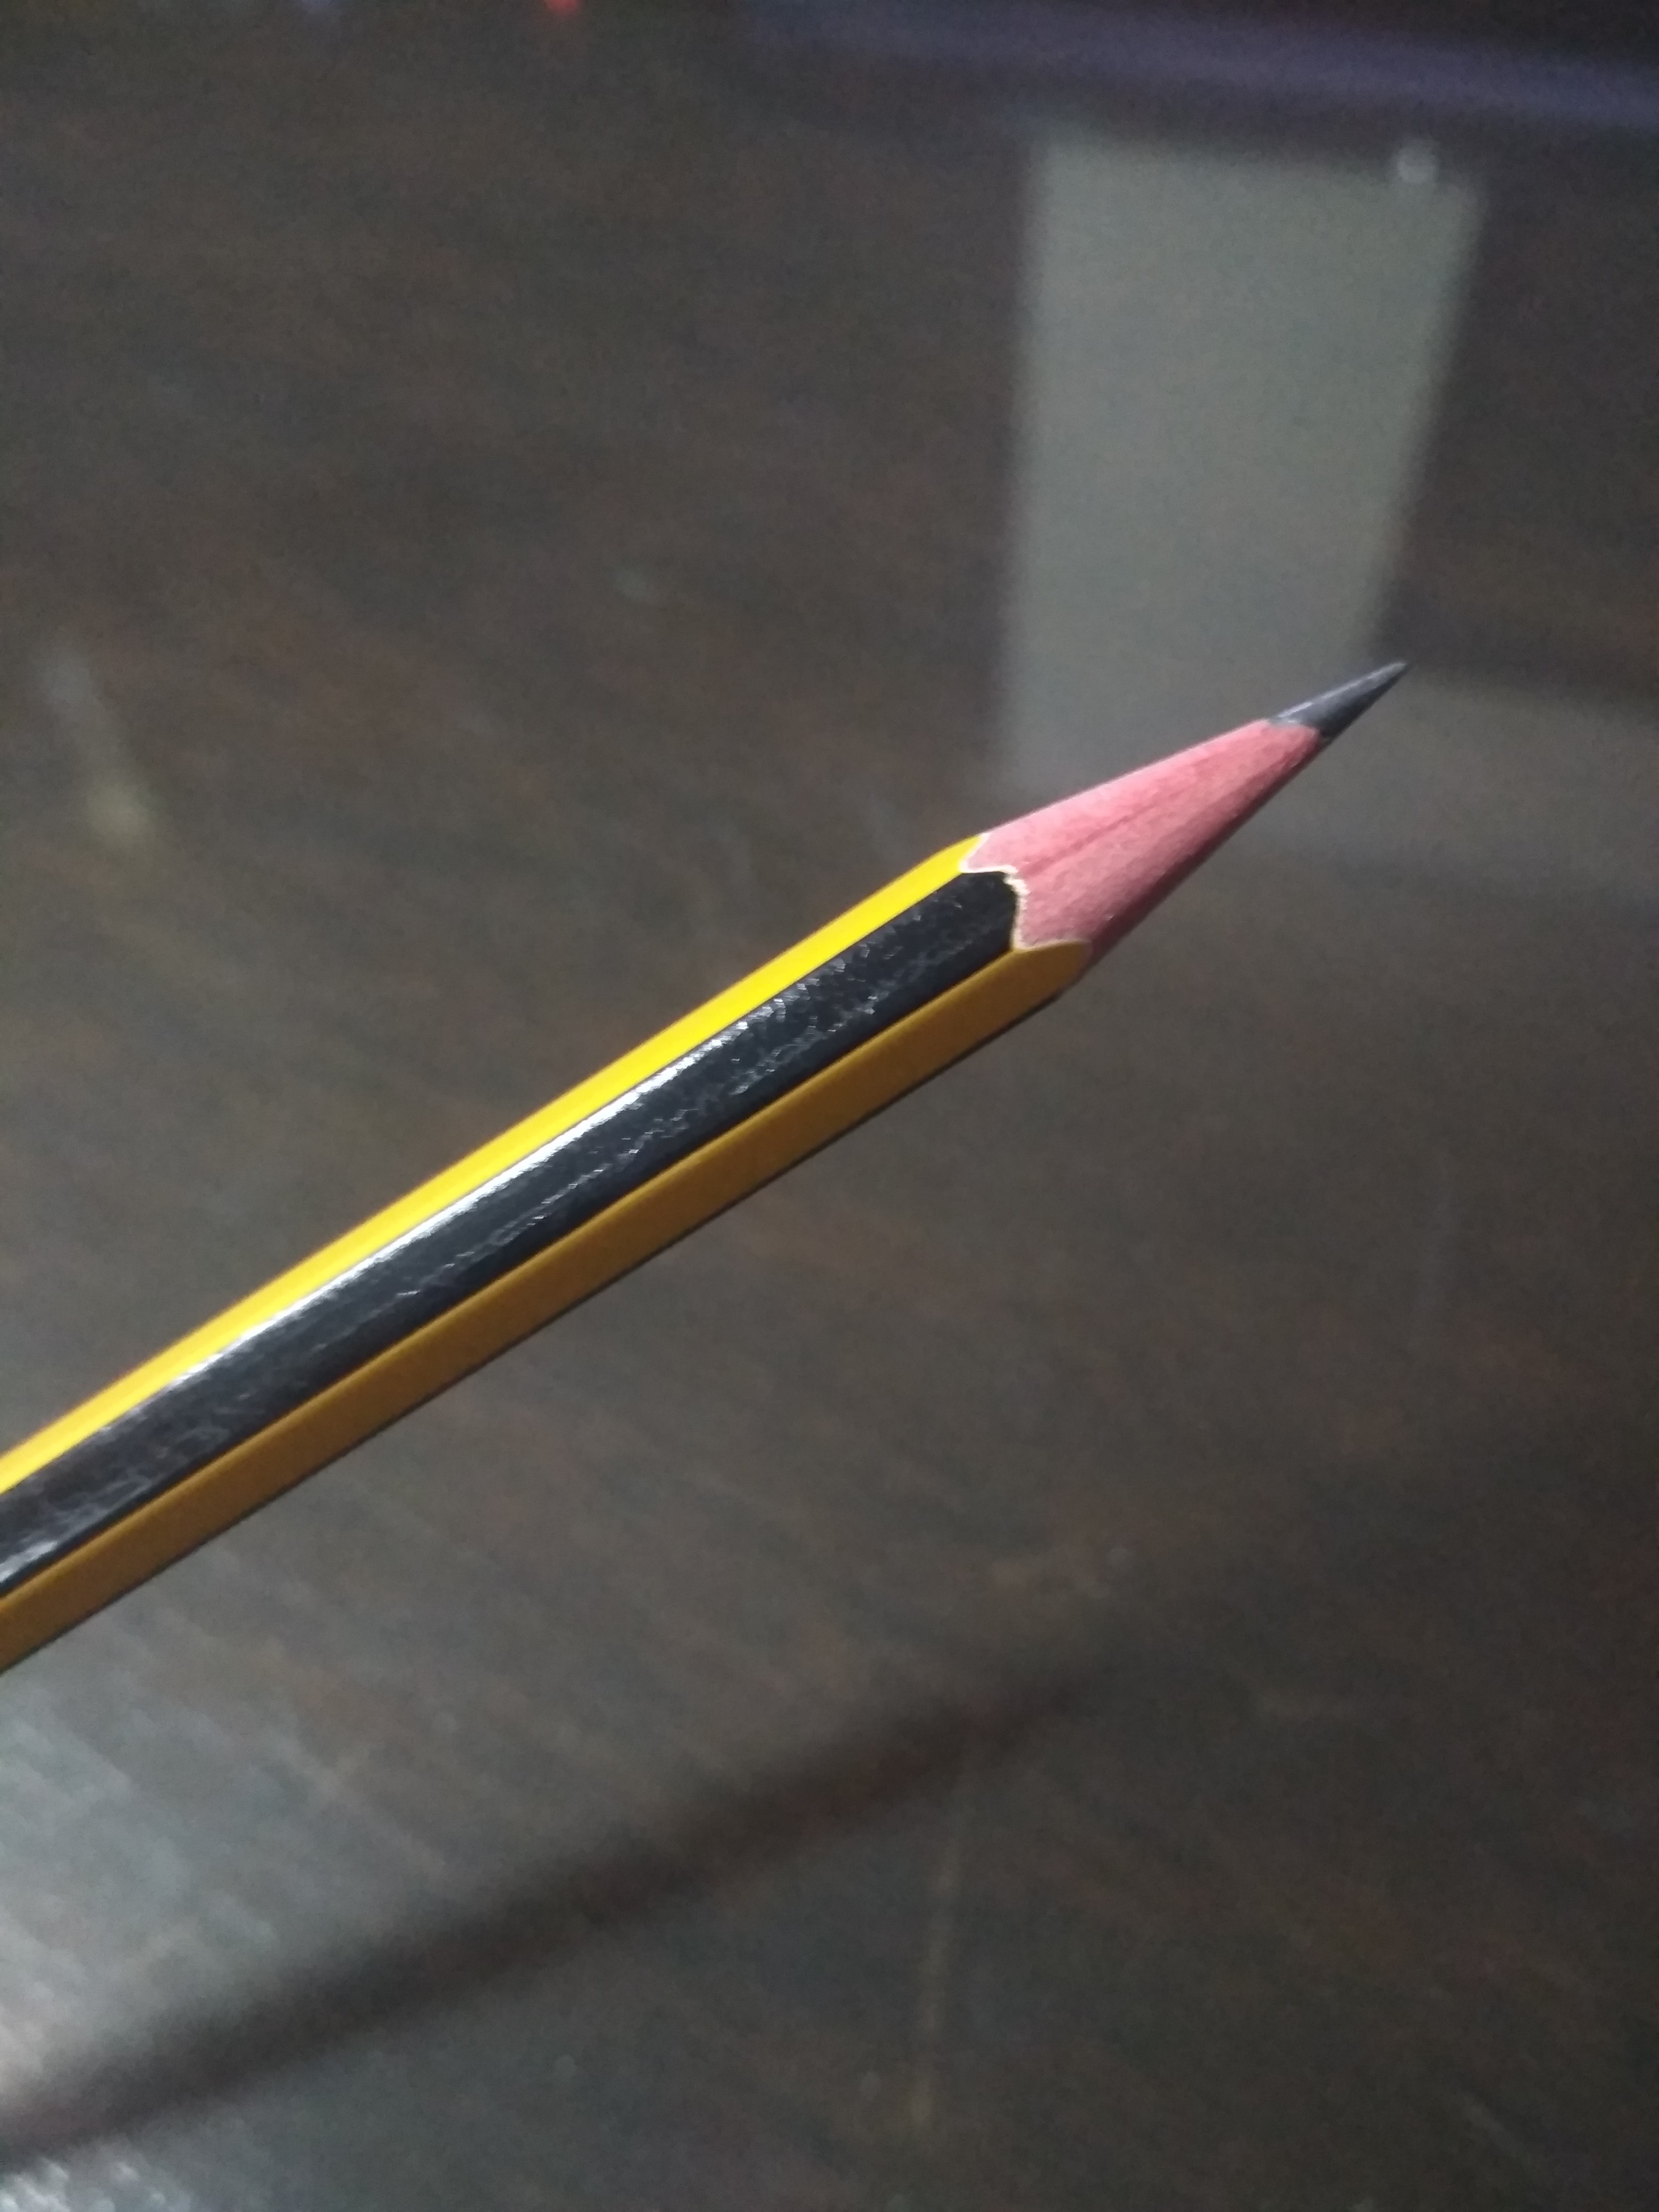pen_tip: (850, 575, 1467, 1082)
